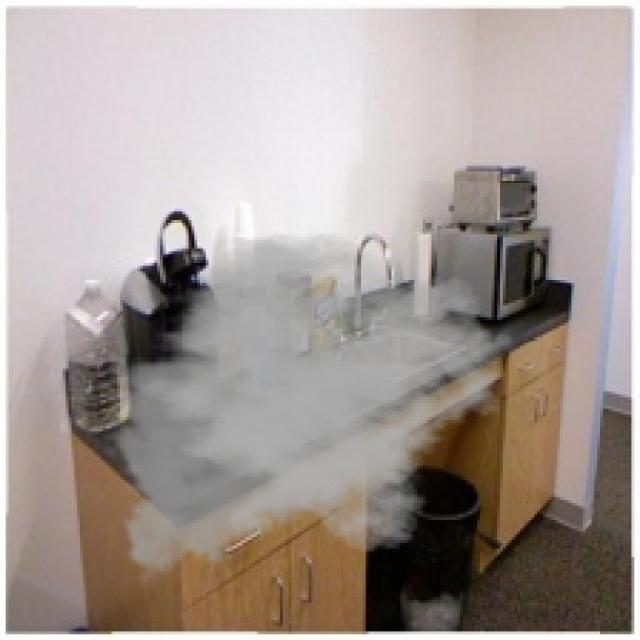smoke: (100, 232, 517, 588)
